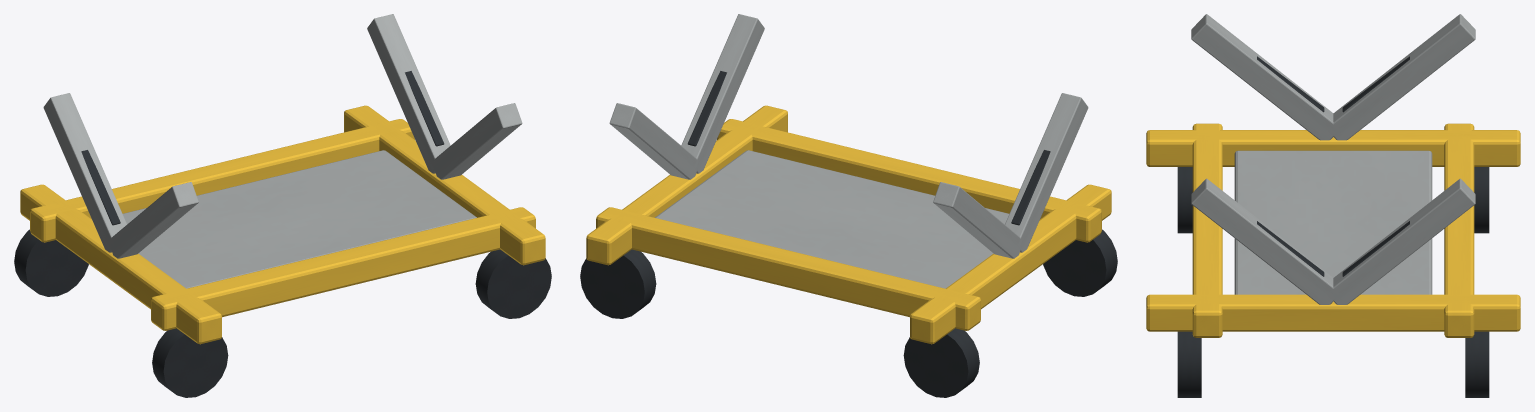
Rendered from engine_transport_cradle.glb.
3 views of the same model, side by side, from view 1: azimuth 30°, elevation 25°; view 2: azimuth 150°, elevation 25°; view 3: azimuth 270°, elevation 25° (orthographic). The views are drawn at different scales.
Visible parts, largest first — view 1: EquipmentTray, FrameRail, FrameRail.001, Crossbeam, Crossbeam.001, Saddle.005, Saddle.007, Wheel.006, Wheel.004, Wheel.005, Saddle.006, Saddle.004 (+2 smaller); view 2: EquipmentTray, FrameRail.001, FrameRail, Crossbeam, Crossbeam.001, Saddle.004, Saddle.006, Wheel.007, Wheel.005, Wheel.004, Saddle.007, Saddle.005 (+2 smaller); view 3: EquipmentTray, Crossbeam.001, Crossbeam, FrameRail, FrameRail.001, Saddle.004, Saddle.006, Saddle.007, Saddle.005, Wheel.006, Wheel.007, Wheel.004 (+5 smaller).
Boxes of the visible parts, left/top/right/bottom form: EquipmentTray: left=123, top=150, right=476, bottom=288; FrameRail: left=151, top=207, right=535, bottom=330; FrameRail.001: left=30, top=119, right=414, bottom=242; Crossbeam: left=20, top=184, right=221, bottom=344; Crossbeam.001: left=344, top=105, right=545, bottom=265; Saddle.005: left=43, top=93, right=126, bottom=252; Saddle.007: left=367, top=14, right=450, bottom=173; Wheel.006: left=475, top=249, right=551, bottom=318; Wheel.004: left=152, top=328, right=228, bottom=397; Wheel.005: left=14, top=229, right=88, bottom=296; Saddle.006: left=432, top=103, right=522, bottom=179; Saddle.004: left=109, top=182, right=198, bottom=258; EquipmentTray: left=655, top=150, right=1008, bottom=288; FrameRail.001: left=596, top=207, right=980, bottom=330; FrameRail: left=717, top=119, right=1101, bottom=242; Crossbeam: left=910, top=184, right=1111, bottom=344; Crossbeam.001: left=586, top=105, right=787, bottom=265; Saddle.004: left=1005, top=93, right=1088, bottom=252; Saddle.006: left=681, top=14, right=764, bottom=173; Wheel.007: left=580, top=249, right=656, bottom=318; Wheel.005: left=903, top=328, right=979, bottom=397; Wheel.004: left=1043, top=229, right=1117, bottom=296; Saddle.007: left=609, top=103, right=696, bottom=179; Saddle.005: left=933, top=182, right=1020, bottom=258; EquipmentTray: left=1234, top=150, right=1432, bottom=294; Crossbeam.001: left=1146, top=294, right=1520, bottom=331; Crossbeam: left=1146, top=130, right=1520, bottom=166; FrameRail: left=1192, top=123, right=1222, bottom=337; FrameRail.001: left=1444, top=123, right=1474, bottom=337; Saddle.004: left=1191, top=14, right=1339, bottom=140; Saddle.006: left=1191, top=178, right=1339, bottom=304; Saddle.007: left=1328, top=178, right=1475, bottom=304; Saddle.005: left=1329, top=14, right=1475, bottom=140; Wheel.006: left=1177, top=331, right=1201, bottom=397; Wheel.007: left=1465, top=331, right=1489, bottom=397; Wheel.004: left=1177, top=167, right=1192, bottom=233.
Size of the model in its own units: 1.56 by 0.7786 by 1.25.
3 materials, 3 textured.
